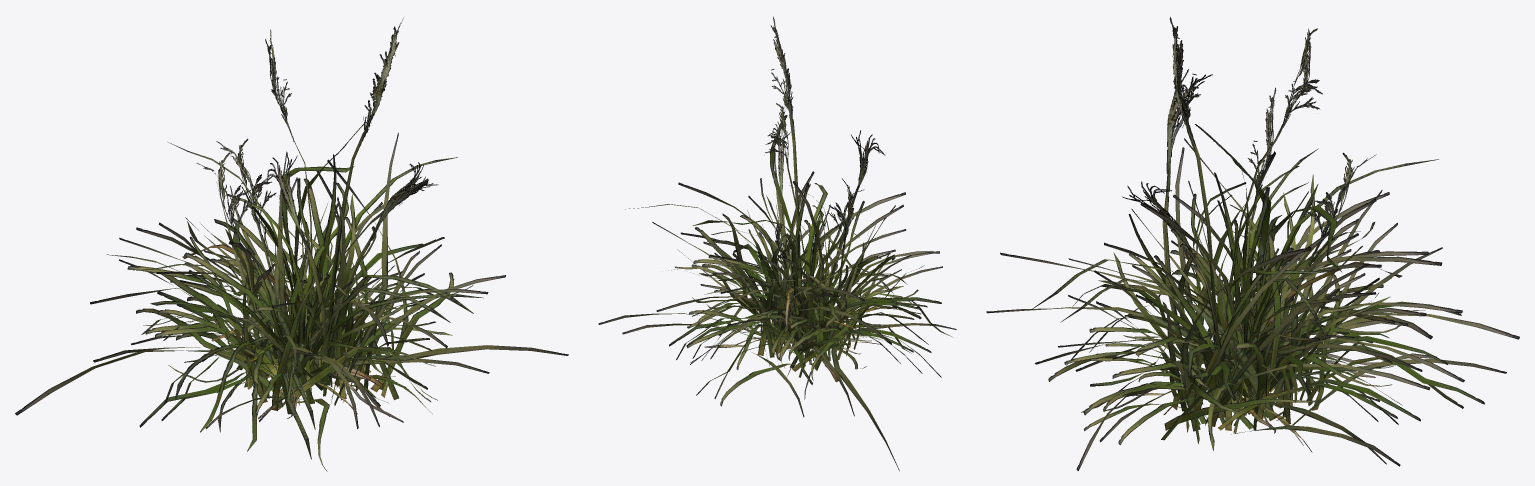
The model's file is source.gltf.
The picture shows the model from 3 angles, left to right: view 1: azimuth 30°, elevation 25°; view 2: azimuth 150°, elevation 25°; view 3: azimuth 270°, elevation 25°; orthographic projection. The views are drawn at different scales.
Size of the model in its own units: 0.2168 by 0.2177 by 0.2214.
Materials: 1 (1 with a texture image).
